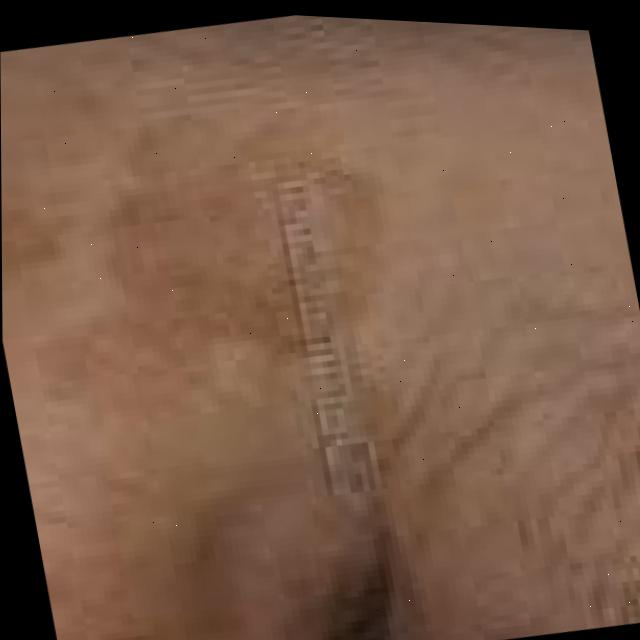Melasma: (100, 145, 377, 433)
